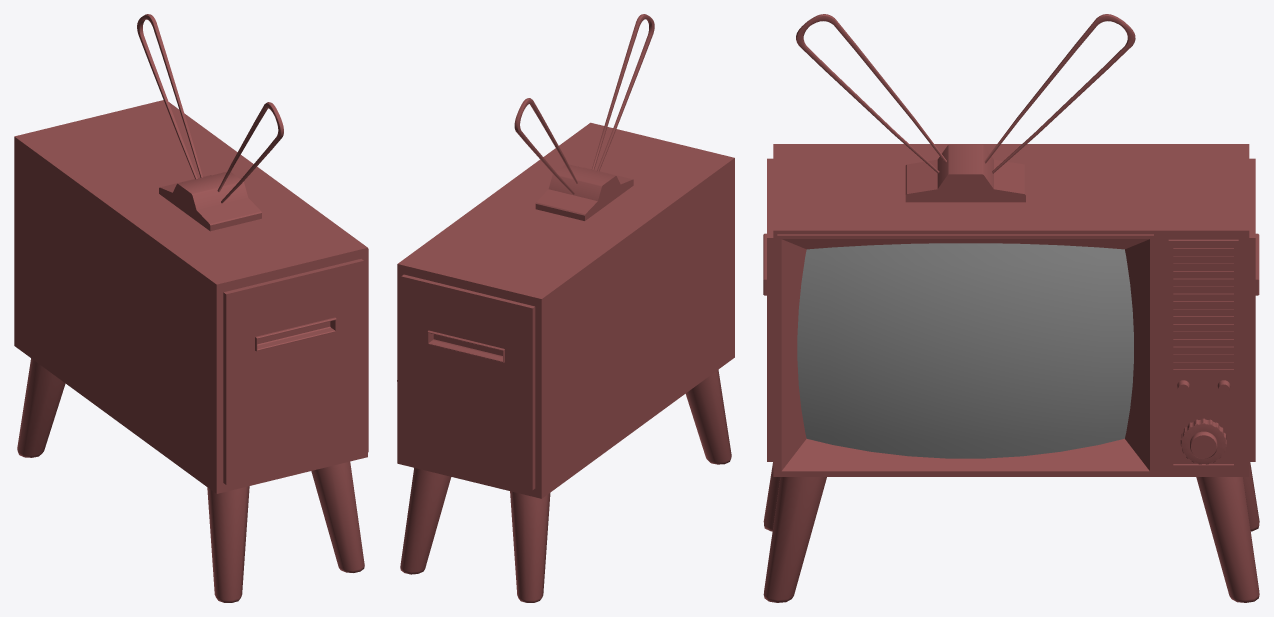
3 views of the same model, side by side, from view 1: azimuth 30°, elevation 25°; view 2: azimuth 150°, elevation 25°; view 3: azimuth 270°, elevation 25° (orthographic). The views are drawn at different scales.
Visible parts, largest first — view 1: tvBody, tvLegs, tvAnt; view 2: tvBody, tvLegs, tvAnt; view 3: tvBody, tvScreenGlass, tvLegs, tvAnt, tvDial.
Boxes of the visible parts, box(x1,y1,x2,y2) form: tvBody: box(14, 100, 368, 493); tvLegs: box(17, 358, 364, 602); tvAnt: box(137, 14, 283, 203); tvBody: box(397, 122, 734, 498); tvLegs: box(400, 369, 731, 602); tvAnt: box(514, 14, 654, 194); tvBody: box(763, 144, 1259, 476); tvScreenGlass: box(797, 243, 1133, 458); tvLegs: box(763, 462, 1259, 602); tvAnt: box(796, 14, 1135, 173); tvDial: box(1180, 418, 1226, 464).
Size of what is drawn, in the model's own units: 43.1 by 95.94 by 117.
